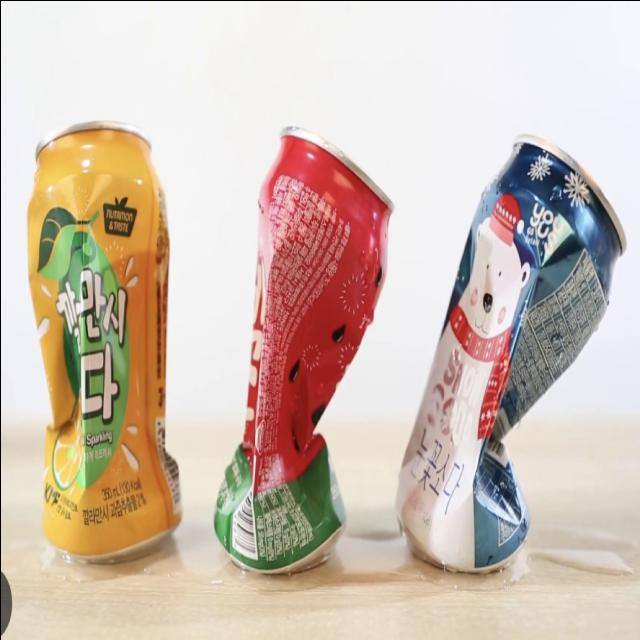can: (388, 68, 630, 592), (195, 88, 398, 590), (20, 103, 190, 579)
